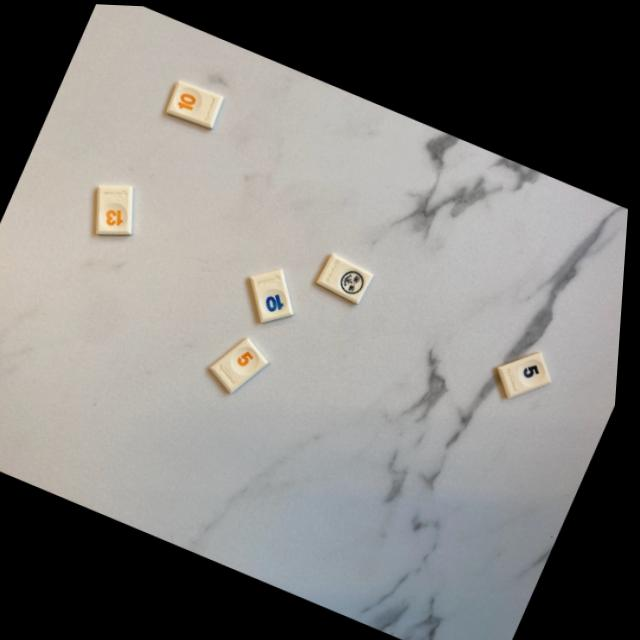black_5: (501, 347, 556, 394)
blue_10: (253, 266, 297, 320)
joker: (320, 251, 377, 300)
orange_10: (168, 79, 224, 126)
orange_13: (99, 184, 135, 234)
orange_5: (216, 336, 273, 391)
